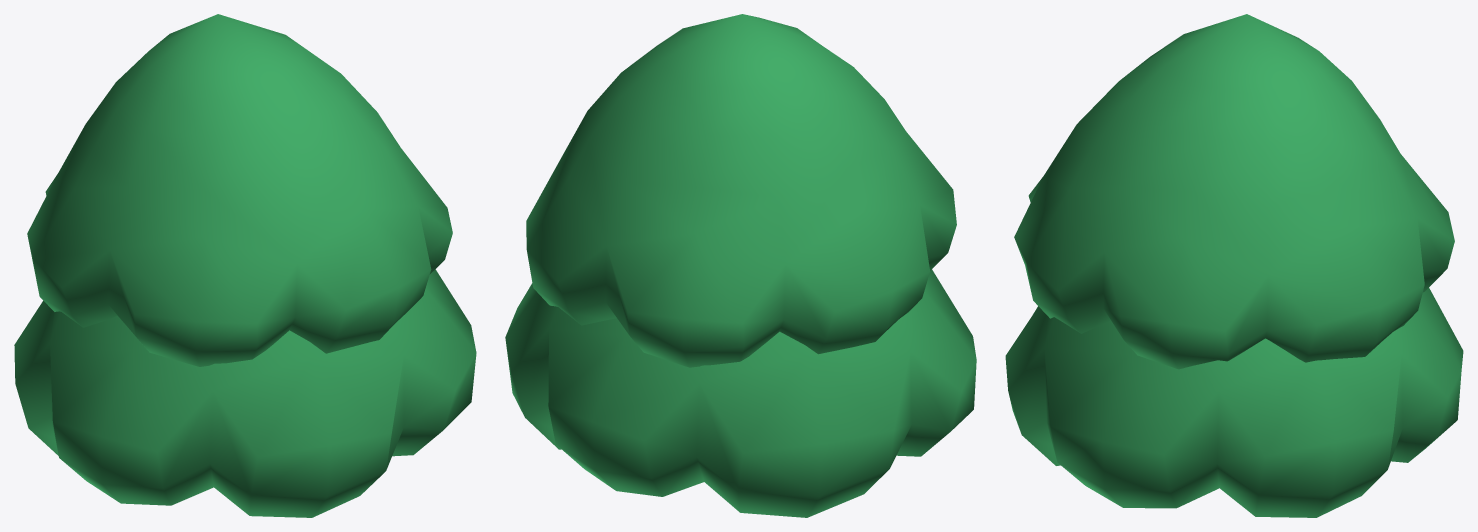
The model's file is Bush_C_01_LOD2.gltf.
3 renders of one model, left to right at view 1: azimuth 30°, elevation 25°; view 2: azimuth 150°, elevation 25°; view 3: azimuth 270°, elevation 25°, orthographic.
Visible parts, largest first — view 1: Bush_C_01_LOD2_Cylinder.615; view 2: Bush_C_01_LOD2_Cylinder.615; view 3: Bush_C_01_LOD2_Cylinder.615.
Boxes of the visible parts, bbox=[...] form: Bush_C_01_LOD2_Cylinder.615: bbox=[14, 14, 476, 517]; Bush_C_01_LOD2_Cylinder.615: bbox=[505, 14, 976, 517]; Bush_C_01_LOD2_Cylinder.615: bbox=[1005, 14, 1463, 517].
Size of the model in its own units: 4.7 by 4.82 by 4.59.
1 material, 1 textured.
